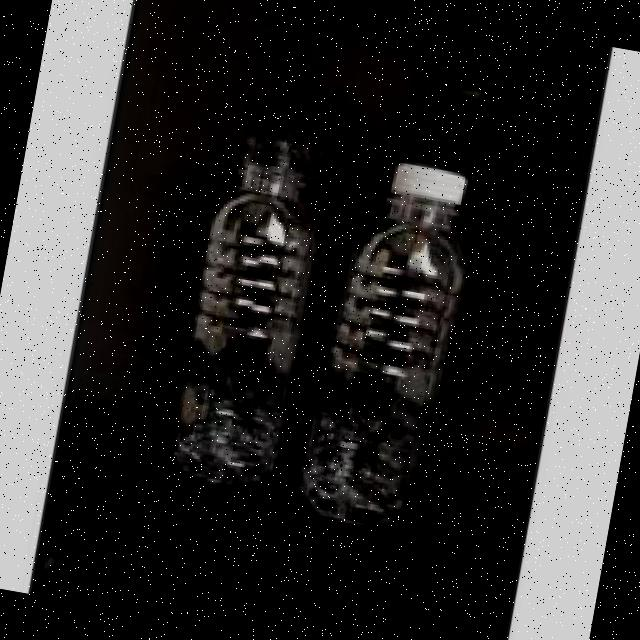bottle: (288, 139, 490, 540), (142, 121, 348, 507)
cap: (225, 121, 328, 191), (378, 156, 474, 219)
